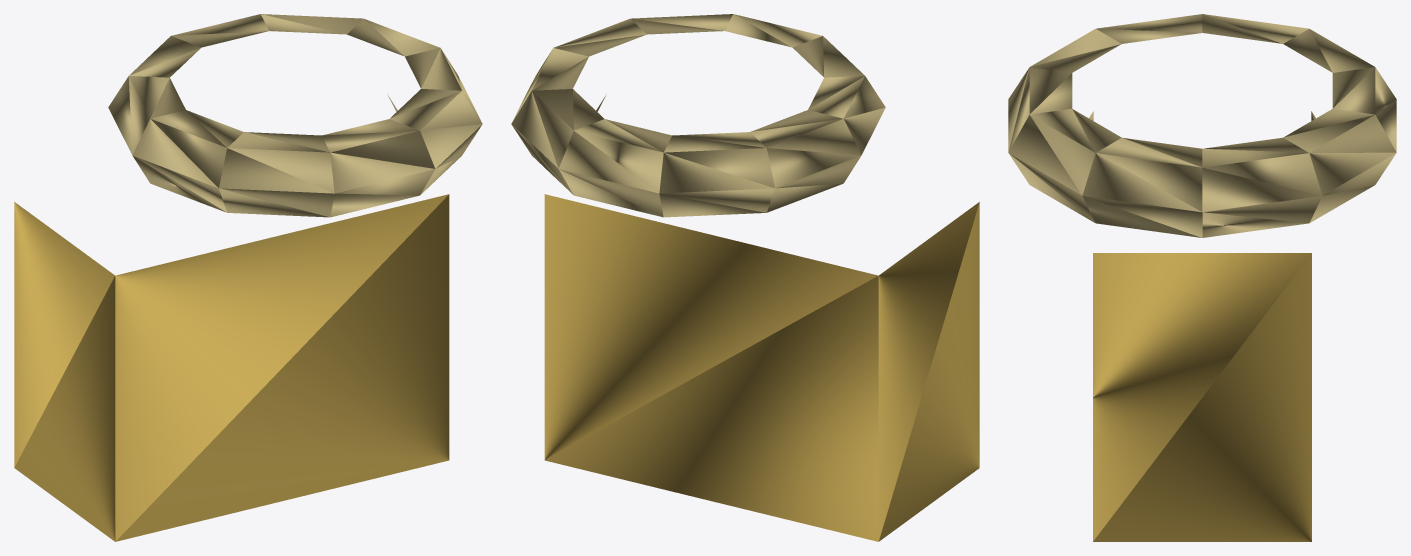
File: unlock.glb
3 views of the same model, side by side, from view 1: azimuth 30°, elevation 25°; view 2: azimuth 150°, elevation 25°; view 3: azimuth 270°, elevation 25° (orthographic). The views are drawn at different scales.
Parts seen in each view (by area): view 1: unlock-mesh; view 2: unlock-mesh; view 3: unlock-mesh.
Part boxes in pixels (box(x1,y1,x2,y2)): unlock-mesh: box(14, 14, 482, 541); unlock-mesh: box(511, 14, 979, 541); unlock-mesh: box(1008, 14, 1396, 541).
Bounding box in the file's own units: 0.495 × 0.439 × 0.3899.
